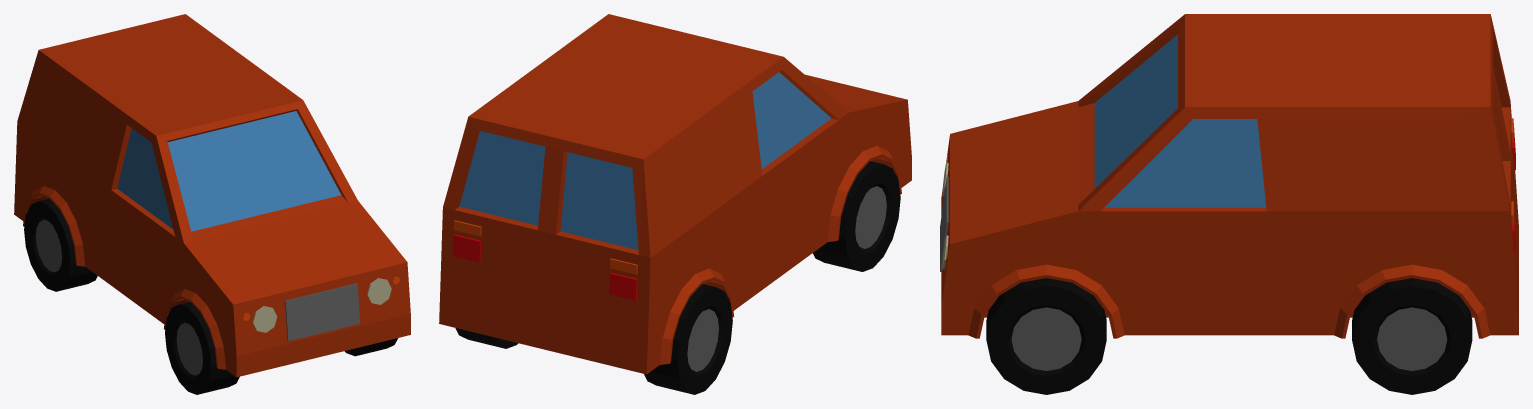
The model's file is car-microcargo-orange.obj.
3 views of the same model, side by side, from view 1: azimuth 30°, elevation 25°; view 2: azimuth 150°, elevation 25°; view 3: azimuth 270°, elevation 25° (orthographic). The views are drawn at different scales.
Visible parts, largest first — view 1: car-microcargo-orange_Cube.613_carmaterial_orange, car-microcargo-orange_Cube.613_windows, car-microcargo-orange_Cube.613_tires, car-microcargo-orange_Cube.613_metal, car-microcargo-orange_Cube.613_lights; view 2: car-microcargo-orange_Cube.613_carmaterial_orange, car-microcargo-orange_Cube.613_windows, car-microcargo-orange_Cube.613_tires, car-microcargo-orange_Cube.613_metal, car-microcargo-orange_Cube.613_lights.red, car-microcargo-orange_Cube.613_lights.orange; view 3: car-microcargo-orange_Cube.613_carmaterial_orange, car-microcargo-orange_Cube.613_windows, car-microcargo-orange_Cube.613_tires, car-microcargo-orange_Cube.613_metal.
Part boxes in pixels (bbox=[...]): car-microcargo-orange_Cube.613_carmaterial_orange: bbox=[14, 14, 410, 377]; car-microcargo-orange_Cube.613_windows: bbox=[117, 111, 341, 231]; car-microcargo-orange_Cube.613_tires: bbox=[24, 199, 397, 394]; car-microcargo-orange_Cube.613_metal: bbox=[35, 219, 360, 375]; car-microcargo-orange_Cube.613_lights: bbox=[252, 278, 391, 332]; car-microcargo-orange_Cube.613_carmaterial_orange: bbox=[439, 14, 911, 374]; car-microcargo-orange_Cube.613_windows: bbox=[459, 72, 831, 249]; car-microcargo-orange_Cube.613_tires: bbox=[455, 161, 900, 394]; car-microcargo-orange_Cube.613_metal: bbox=[687, 186, 886, 371]; car-microcargo-orange_Cube.613_lights.red: bbox=[452, 234, 637, 300]; car-microcargo-orange_Cube.613_lights.orange: bbox=[453, 220, 637, 274]; car-microcargo-orange_Cube.613_carmaterial_orange: bbox=[941, 14, 1518, 338]; car-microcargo-orange_Cube.613_windows: bbox=[1094, 34, 1266, 207]; car-microcargo-orange_Cube.613_tires: bbox=[986, 278, 1472, 394]; car-microcargo-orange_Cube.613_metal: bbox=[940, 177, 1447, 370].
Bounding box in the file's own units: 0.8967 × 0.9513 × 1.82.
